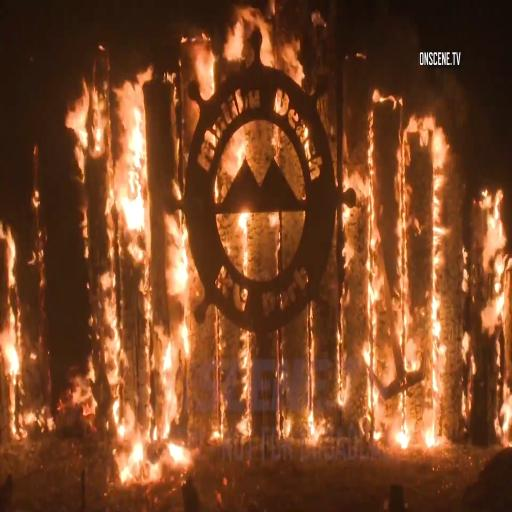fire: (357, 81, 507, 450), (71, 58, 192, 420)
